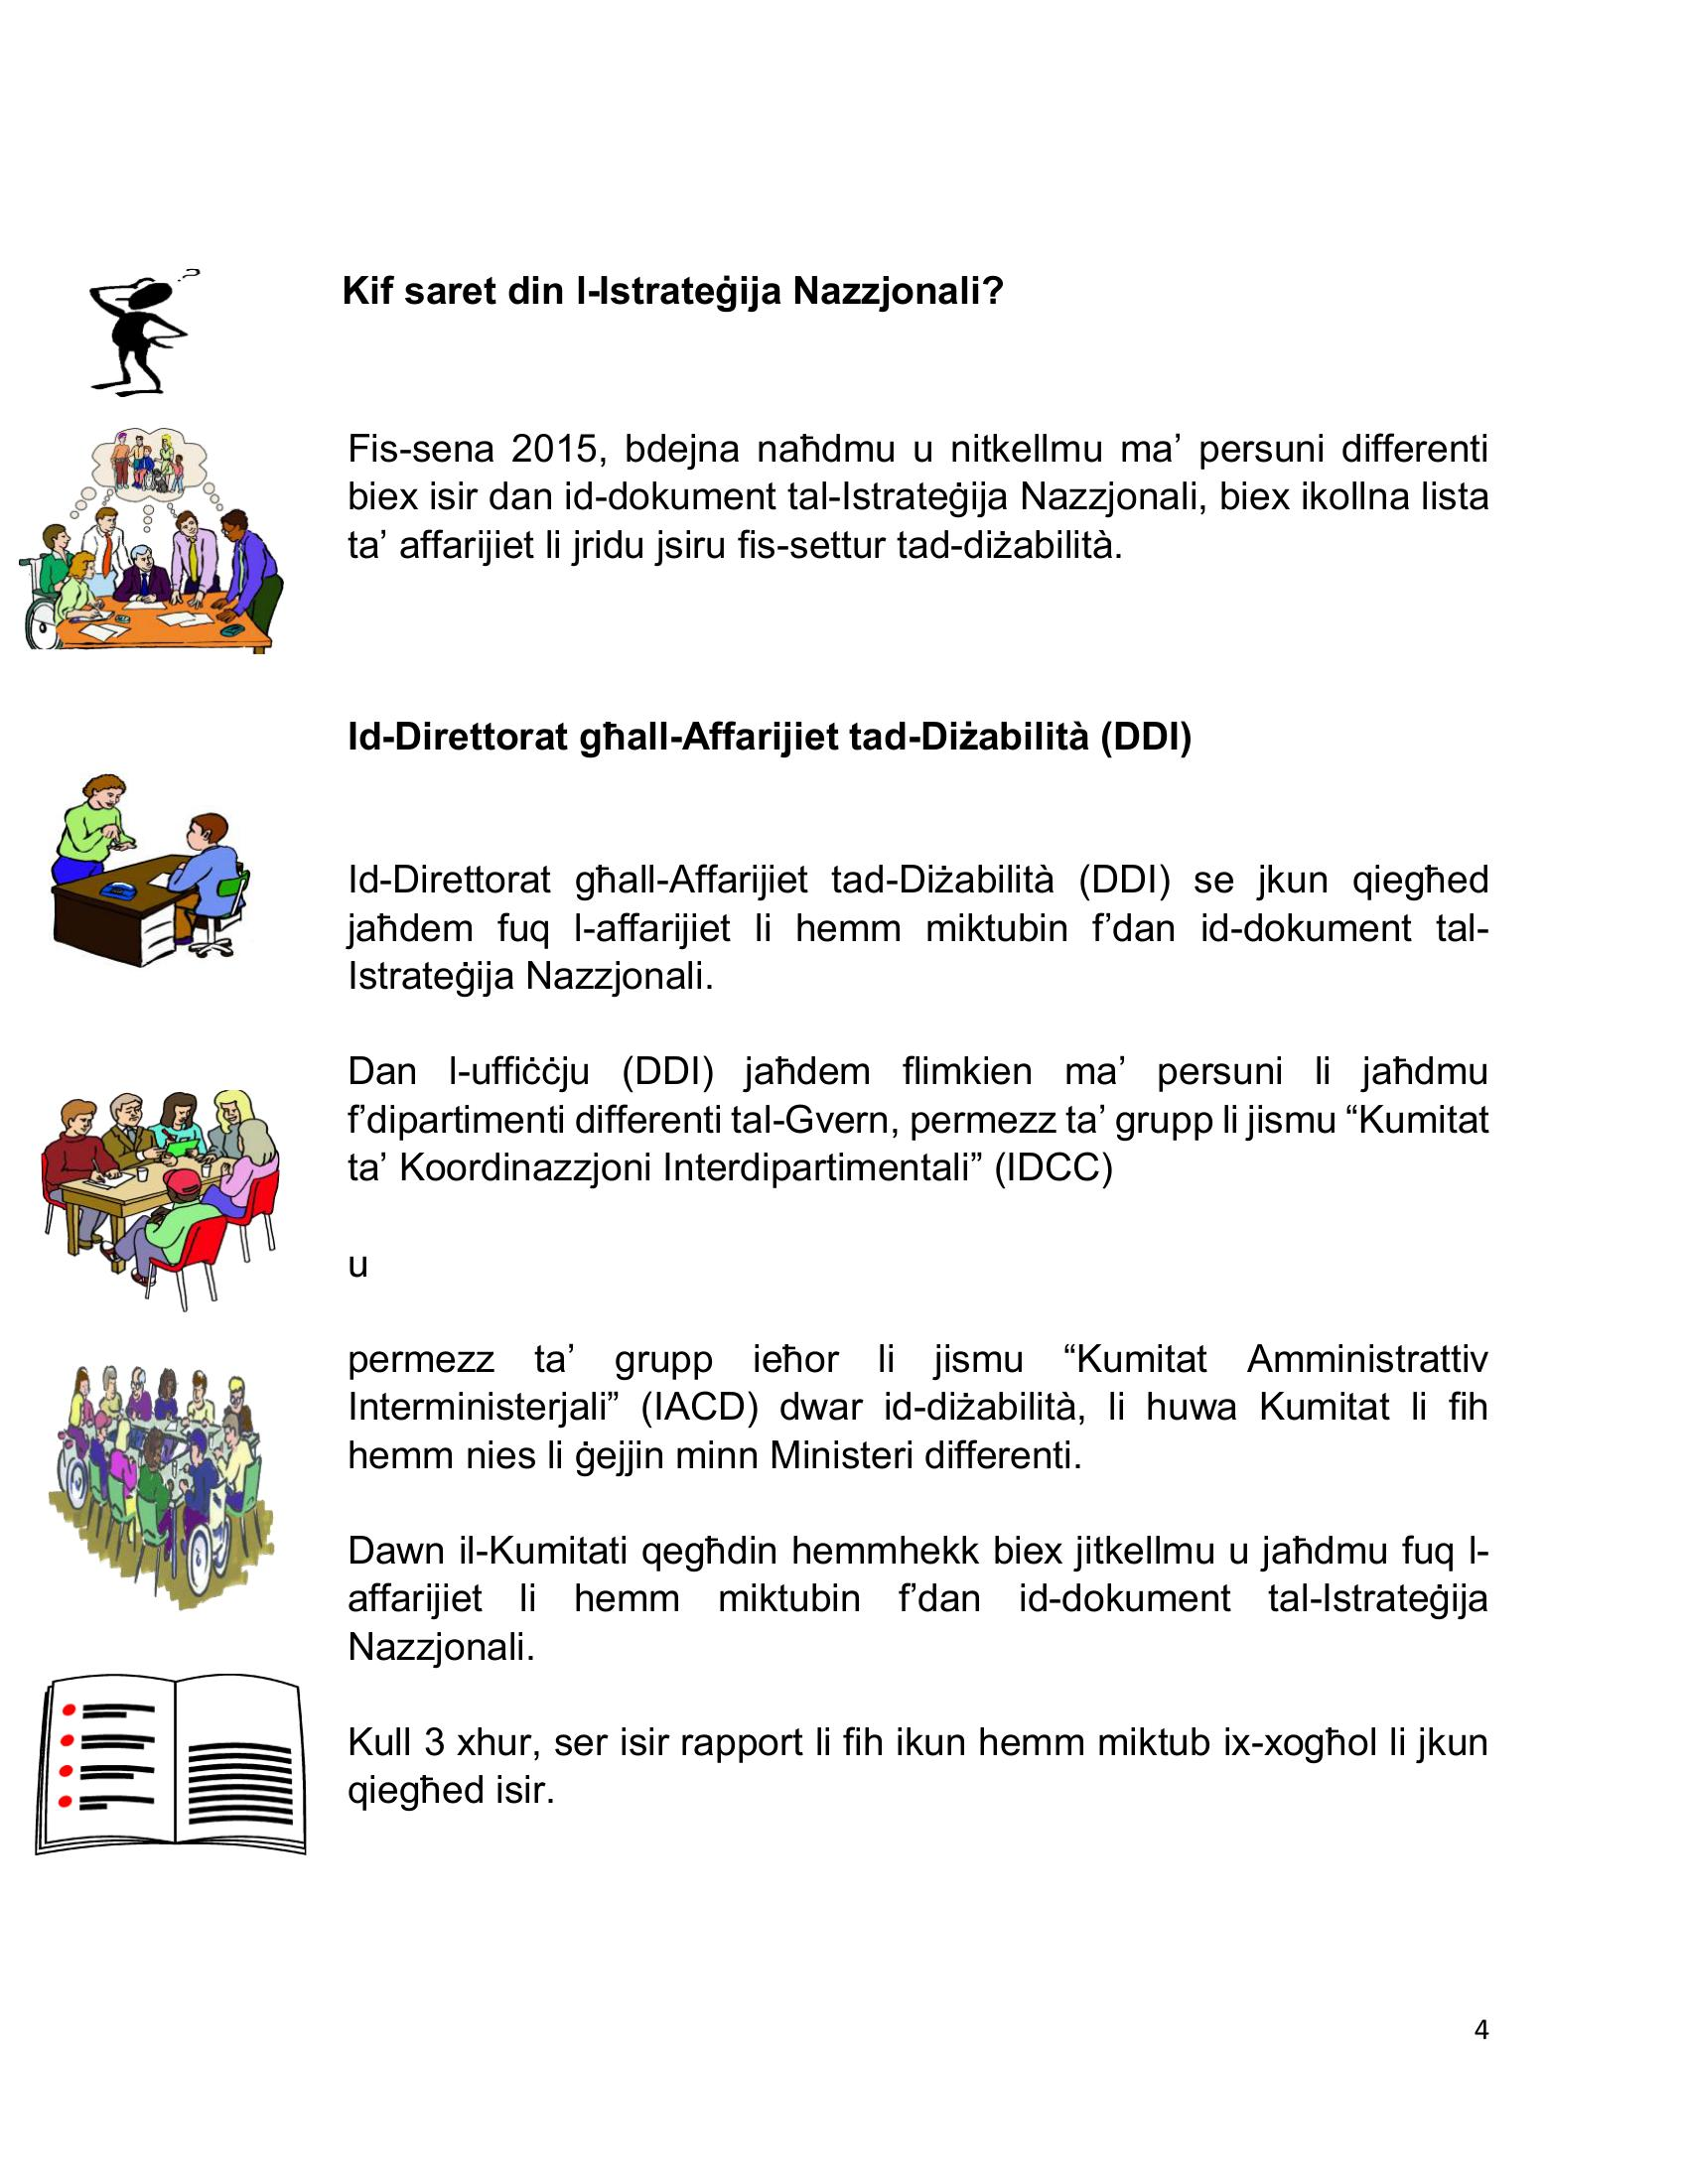text: (323, 243, 1537, 1838)
